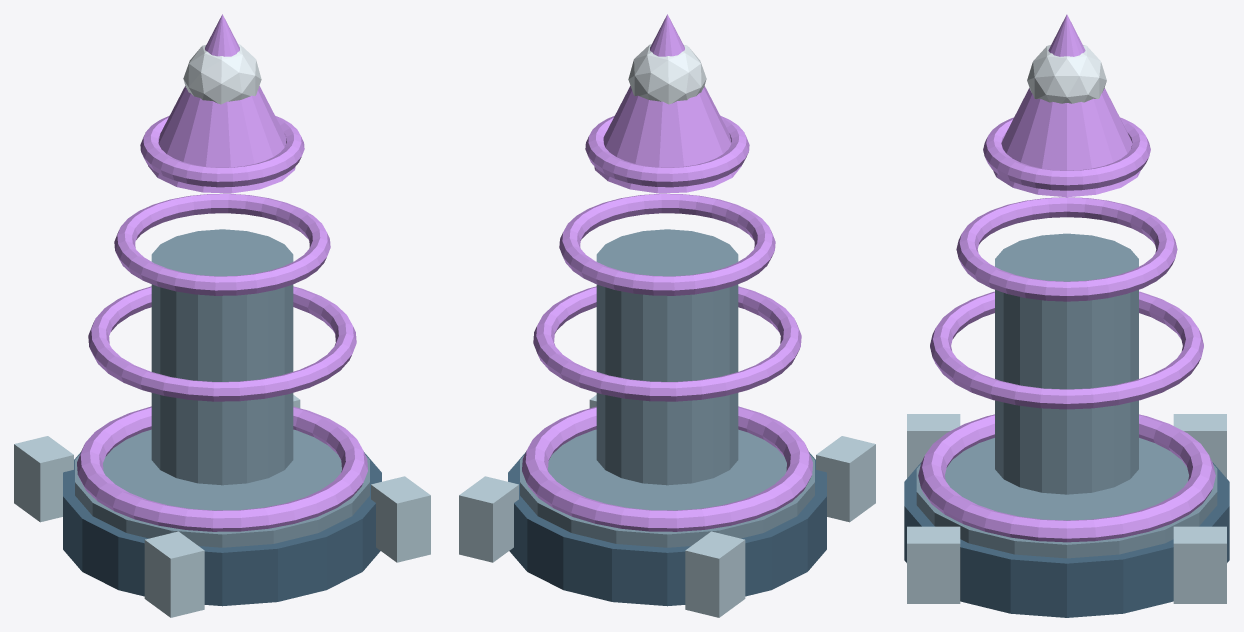
File: arc_pylon.glb
The picture shows the model from 3 angles, left to right: view 1: azimuth 30°, elevation 25°; view 2: azimuth 150°, elevation 25°; view 3: azimuth 270°, elevation 25°; orthographic projection.
Parts seen in each view (by area): view 1: electric_column_7, pedestal_0, armor_ring_1, energy_ring_2, energy_ring_10, discharge_tine_8, energy_ring_9, bolt_5, energy_ring_11, bolt_6, bolt_3, spark_tip_12; view 2: electric_column_7, pedestal_0, armor_ring_1, energy_ring_2, energy_ring_10, discharge_tine_8, energy_ring_9, bolt_3, energy_ring_11, bolt_4, bolt_5, spark_tip_12; view 3: electric_column_7, pedestal_0, armor_ring_1, energy_ring_2, energy_ring_10, discharge_tine_8, energy_ring_9, energy_ring_11, bolt_4, bolt_6, spark_tip_12, bolt_3 (+1 smaller).
Boxes of the visible parts, x1,y1,x2,y2 form: electric_column_7: [151, 229, 293, 485]; pedestal_0: [63, 452, 381, 606]; armor_ring_1: [75, 429, 369, 547]; energy_ring_2: [77, 406, 367, 531]; energy_ring_10: [114, 193, 330, 295]; discharge_tine_8: [148, 14, 295, 193]; energy_ring_9: [88, 286, 356, 401]; bolt_5: [144, 531, 204, 617]; energy_ring_11: [140, 115, 304, 187]; bolt_6: [371, 476, 430, 562]; bolt_3: [14, 436, 73, 522]; spark_tip_12: [183, 44, 261, 104]; electric_column_7: [596, 229, 738, 485]; pedestal_0: [508, 452, 826, 606]; armor_ring_1: [520, 429, 814, 547]; energy_ring_2: [522, 406, 812, 531]; energy_ring_10: [559, 193, 775, 295]; discharge_tine_8: [594, 14, 741, 193]; energy_ring_9: [533, 286, 801, 401]; bolt_3: [685, 531, 745, 617]; energy_ring_11: [585, 115, 749, 187]; bolt_4: [459, 476, 518, 562]; bolt_5: [816, 436, 875, 522]; spark_tip_12: [628, 44, 706, 104]; electric_column_7: [995, 233, 1138, 494]; pedestal_0: [904, 462, 1229, 617]; armor_ring_1: [916, 438, 1217, 558]; energy_ring_2: [918, 414, 1215, 542]; energy_ring_10: [956, 197, 1177, 301]; discharge_tine_8: [993, 14, 1140, 197]; energy_ring_9: [930, 291, 1203, 409]; energy_ring_11: [983, 117, 1150, 190]; bolt_4: [1173, 526, 1226, 603]; bolt_6: [907, 526, 960, 603]; spark_tip_12: [1027, 45, 1106, 103]; bolt_3: [1173, 414, 1226, 478].
Size of the model in its own units: 0.9916 by 1.77 by 0.9765.
